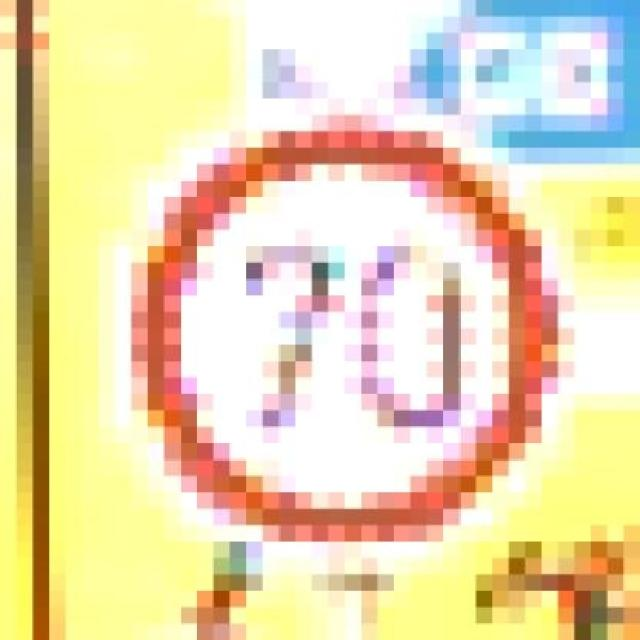forb_speed_over_70: (140, 122, 558, 546)
